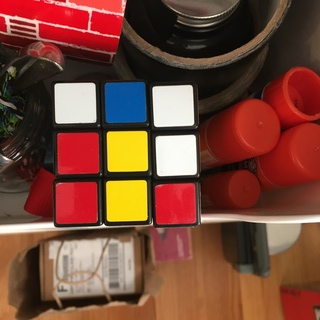face: (52, 79, 201, 229)
